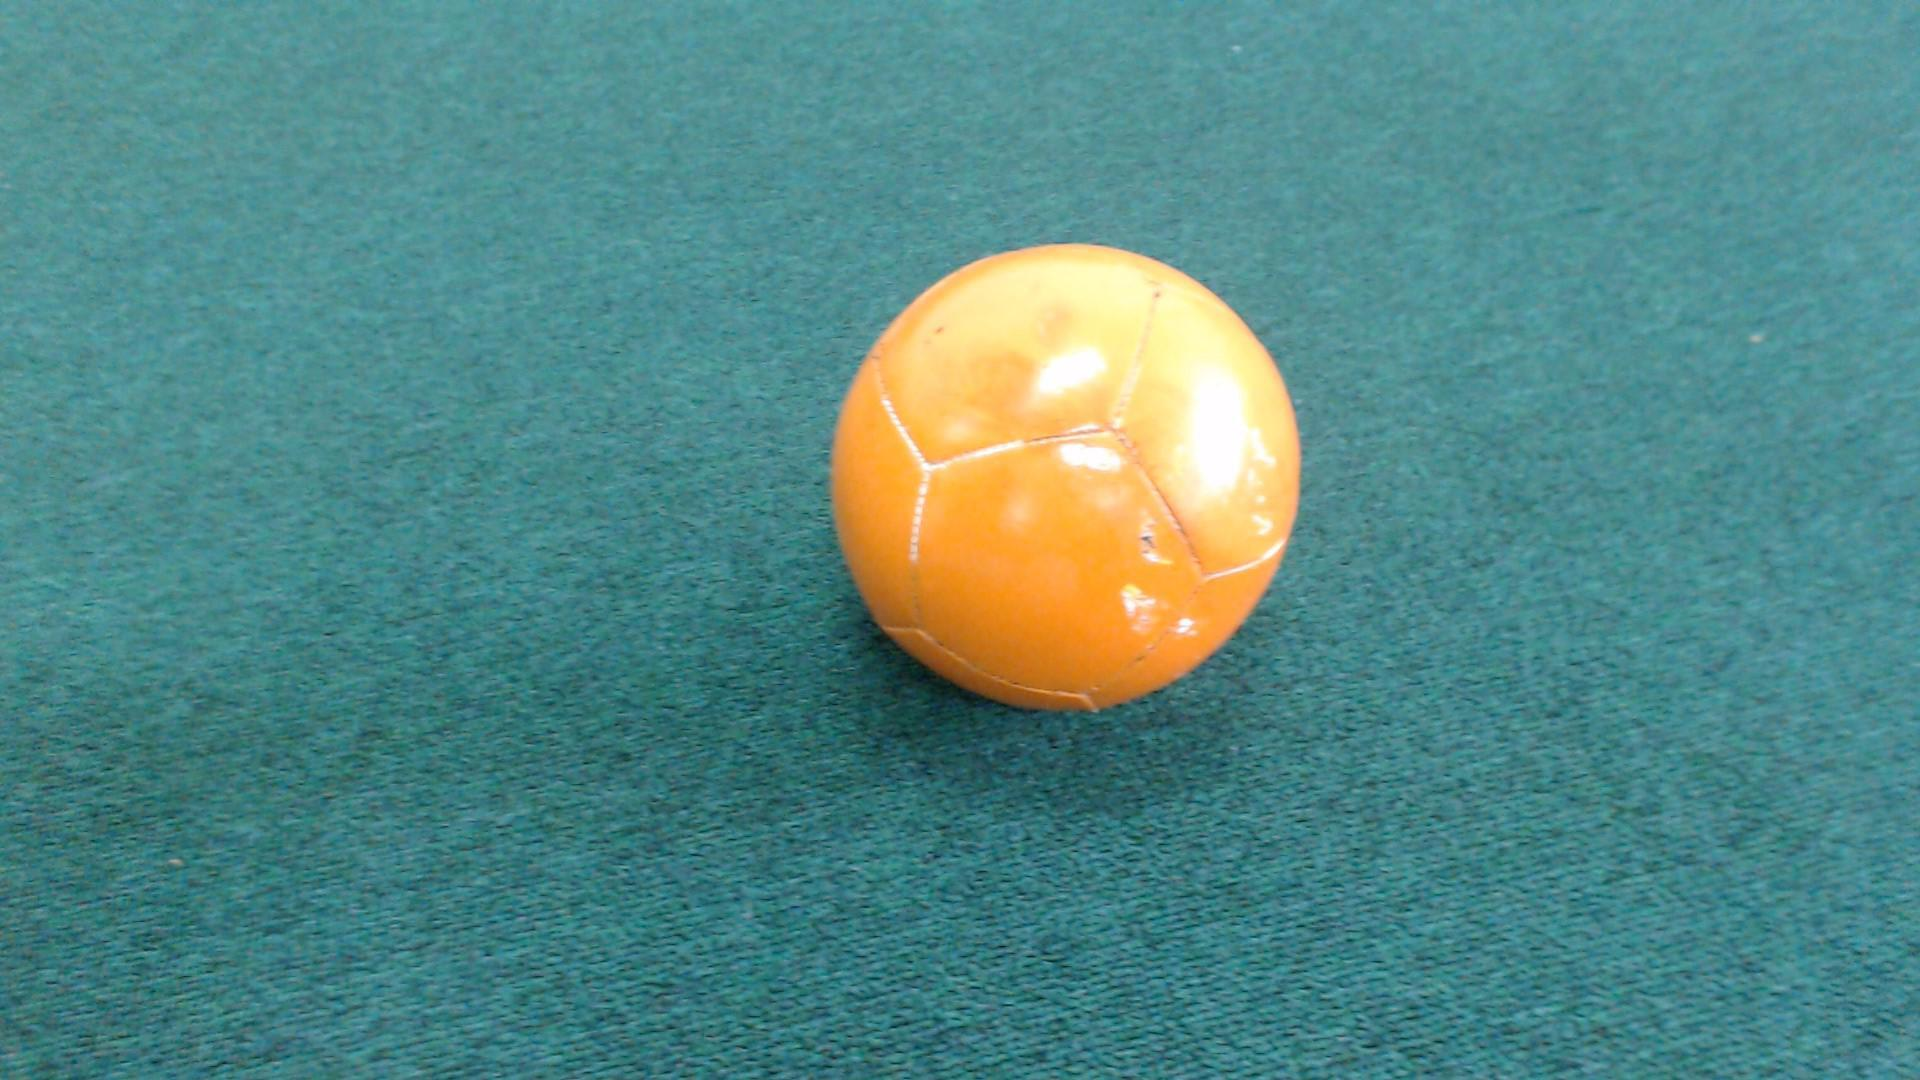bola: (815, 223, 1309, 721)
